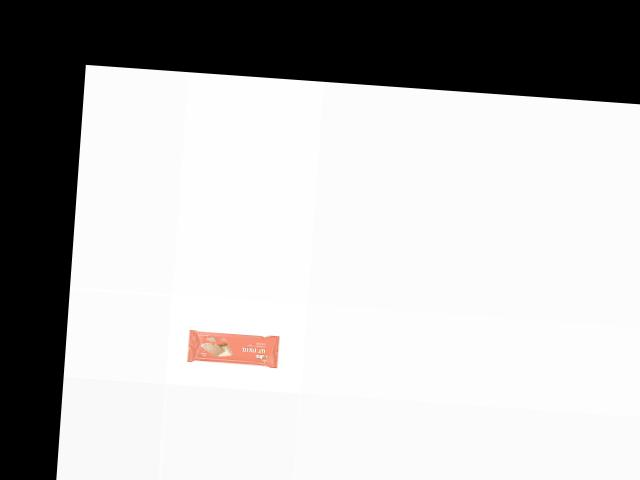chocolate: (187, 328, 283, 368)
